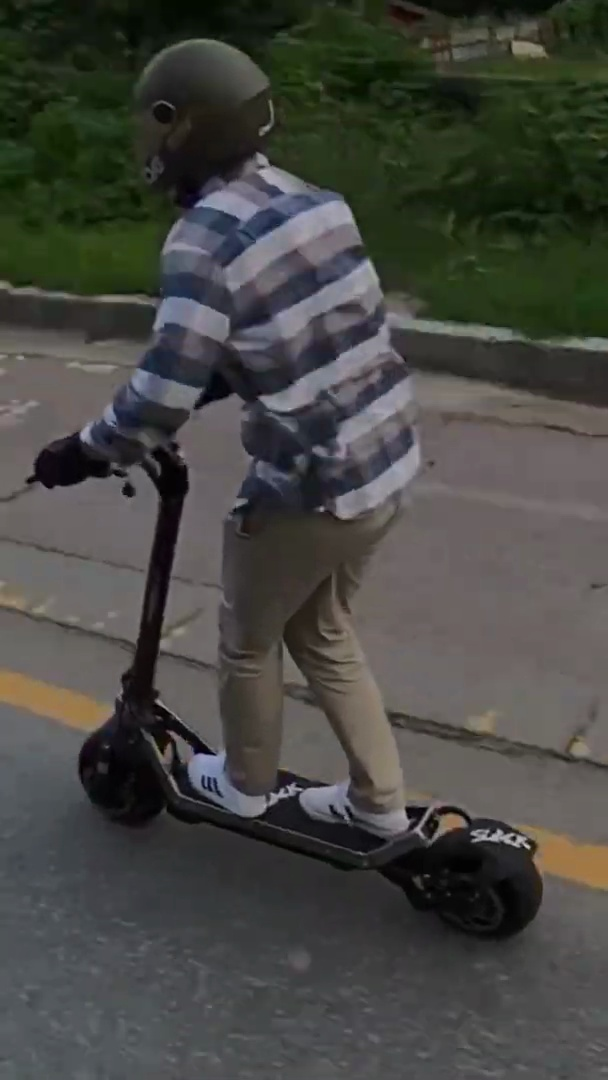helmet: (23, 34, 546, 941)
